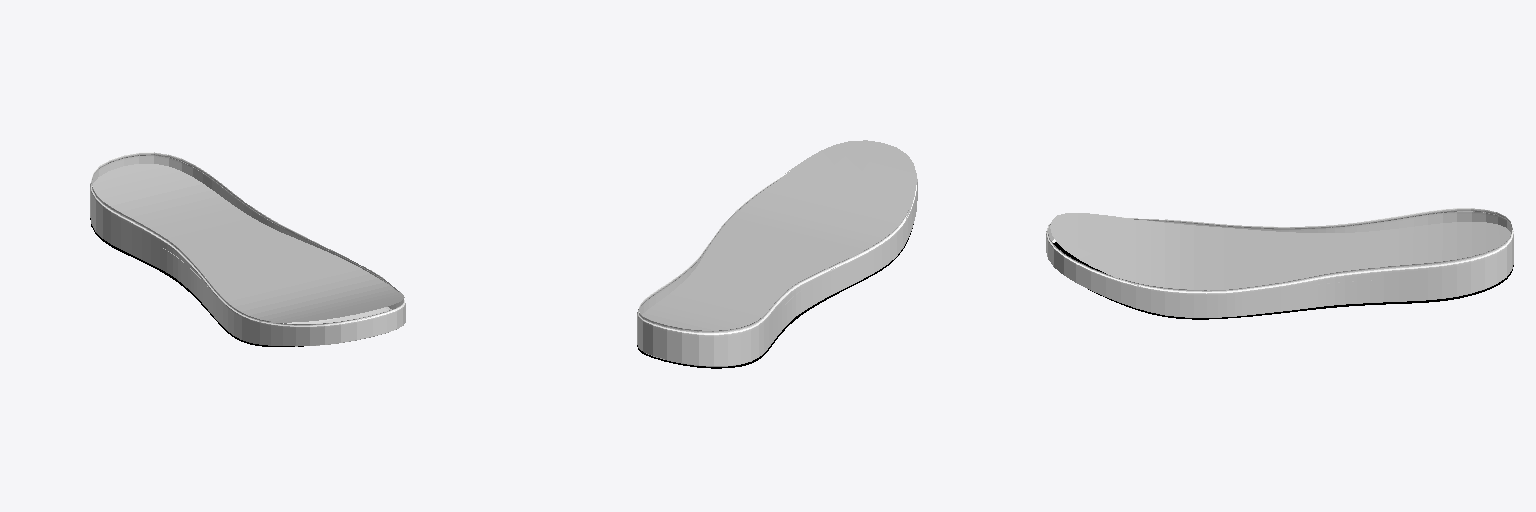
Rendered from sole.obj.
The picture shows the model from 3 angles: view 1: azimuth 30°, elevation 25°; view 2: azimuth 150°, elevation 25°; view 3: azimuth 270°, elevation 25°; orthographic projection.
Parts seen in each view (by area): view 1: insole_Insole.002, sole_body_Body.001; view 2: insole_Insole.002, sole_body_Body.001; view 3: insole_Insole.002, sole_body_Body.001, Bottom_Bottom.001.
Part boxes in pixels (x1,y1,x2,y2): insole_Insole.002: (93,164,404,322); sole_body_Body.001: (90,152,405,346); insole_Insole.002: (642,140,916,330); sole_body_Body.001: (637,169,917,366); insole_Insole.002: (1050,213,1510,290); sole_body_Body.001: (1046,208,1513,317); Bottom_Bottom.001: (1053,242,1513,319).
Size of the model in its own units: 89.86 by 34.69 by 253.